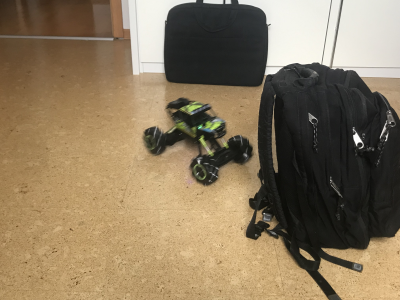remote control car: (142, 94, 253, 187)
